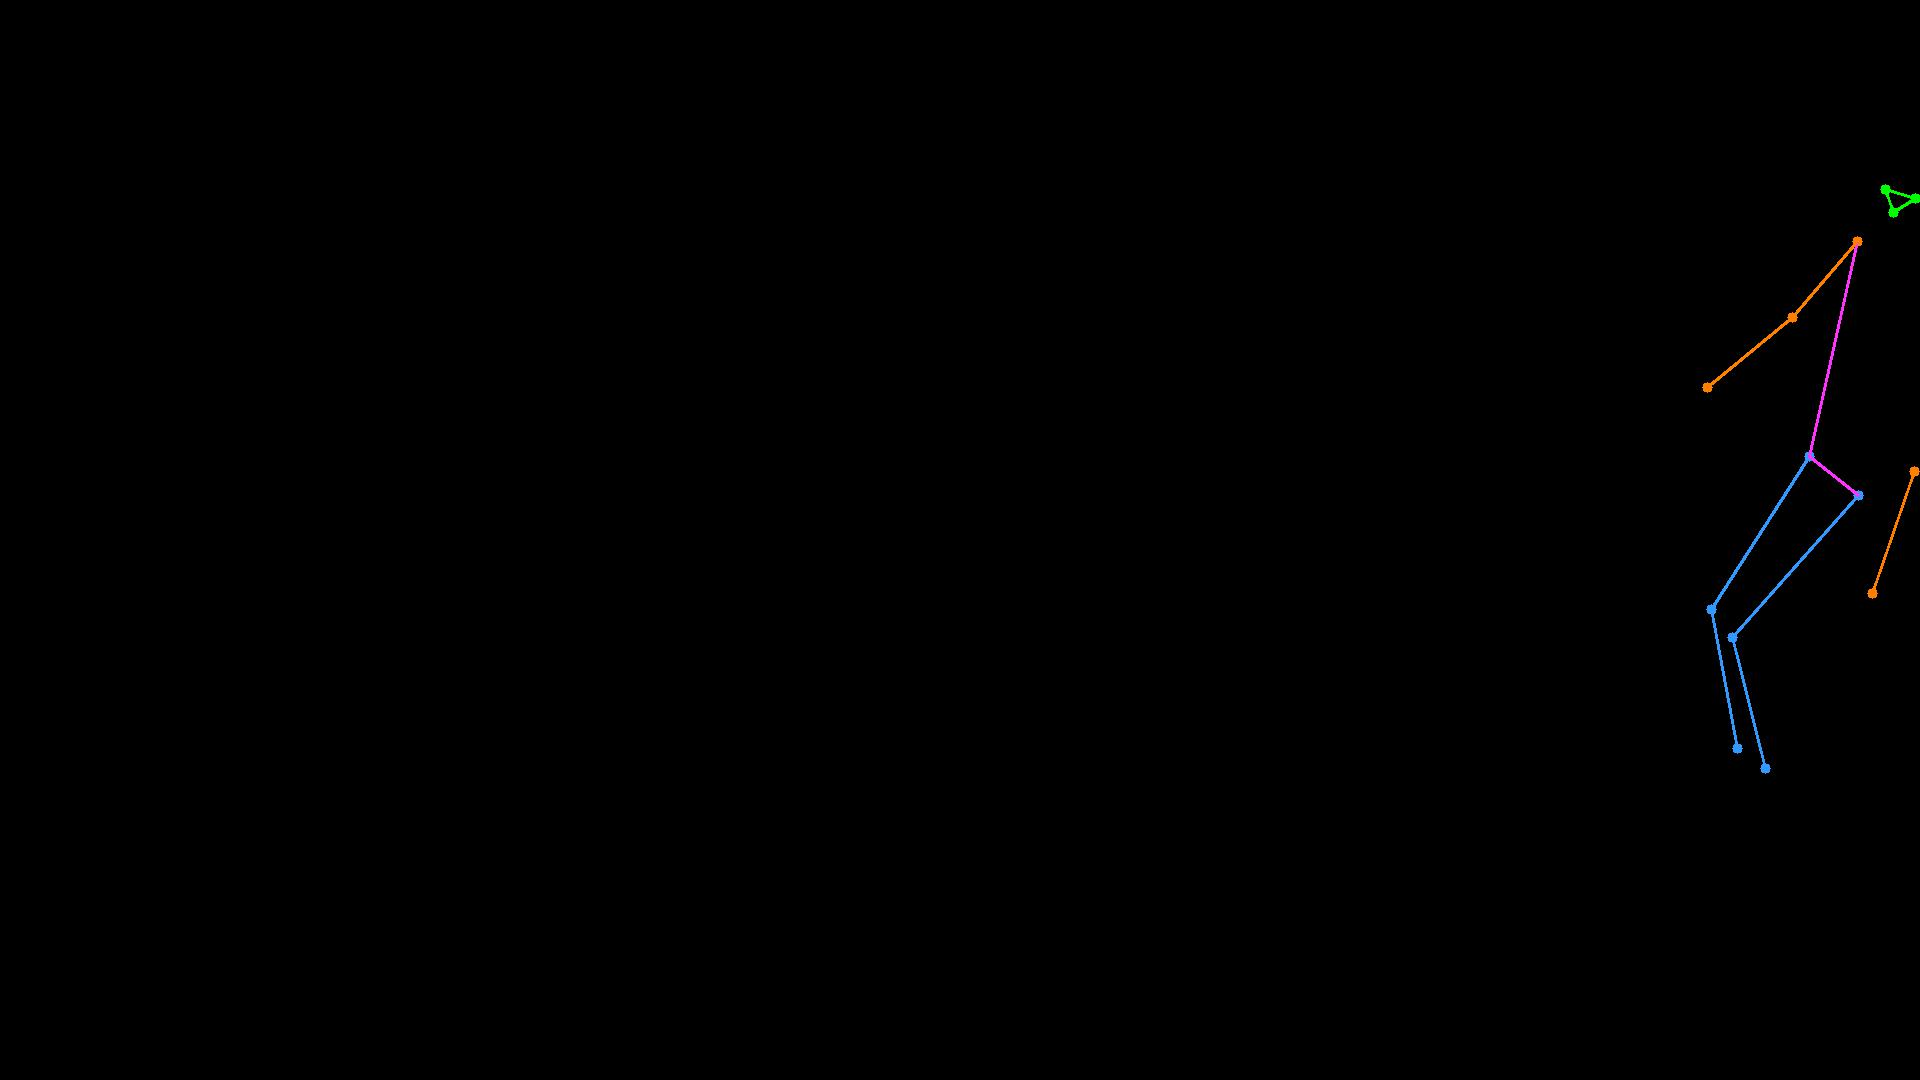normal: (1680, 158, 1920, 796)
